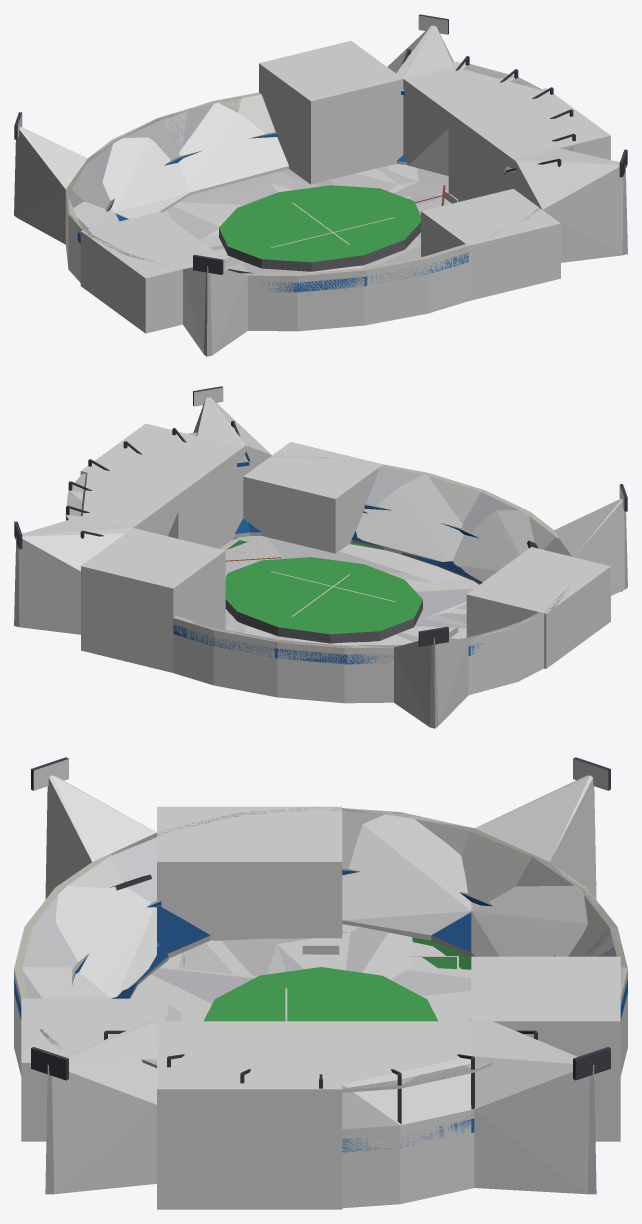
The model's file is lm_anchor_field.glb.
The picture shows the model from 3 angles, top to bottom: view 1: azimuth 30°, elevation 25°; view 2: azimuth 150°, elevation 25°; view 3: azimuth 270°, elevation 25°; orthographic projection. The views are drawn at different scales.
Parts seen in each view (by area): view 1: rubble, chunk_12, chunk_06, chunk_05, chunk_03, intact, chunk_04, damaged, chunk_08, chunk_11, chunk_01, chunk_02 (+5 smaller); view 2: rubble, chunk_12, damaged, chunk_03, chunk_06, chunk_05, chunk_13, intact, chunk_02, chunk_10, chunk_11, chunk_09 (+5 smaller); view 3: chunk_06, rubble, chunk_05, chunk_08, damaged, chunk_13, chunk_04, chunk_12, chunk_07, intact, chunk_01, chunk_03 (+4 smaller).
Boxes of the visible parts, left/top/right/bottom form: rubble: left=162, top=164, right=455, bottom=273; chunk_12: left=259, top=41, right=403, bottom=184; chunk_06: left=448, top=88, right=610, bottom=201; chunk_05: left=80, top=211, right=225, bottom=333; chunk_03: left=421, top=188, right=560, bottom=300; intact: left=158, top=51, right=573, bottom=349; chunk_04: left=513, top=148, right=626, bottom=262; damaged: left=14, top=14, right=627, bottom=282; chunk_08: left=403, top=66, right=538, bottom=175; chunk_11: left=162, top=93, right=288, bottom=194; chunk_01: left=248, top=270, right=364, bottom=331; chunk_02: left=366, top=246, right=468, bottom=324; rubble: left=220, top=536, right=479, bottom=645; chunk_12: left=81, top=528, right=225, bottom=672; damaged: left=14, top=386, right=622, bottom=727; chunk_03: left=243, top=442, right=382, bottom=553; chunk_06: left=80, top=423, right=243, bottom=548; chunk_05: left=466, top=547, right=610, bottom=668; chunk_13: left=14, top=515, right=132, bottom=634; intact: left=66, top=387, right=627, bottom=691; chunk_02: left=356, top=464, right=474, bottom=561; chunk_10: left=277, top=642, right=393, bottom=703; chunk_11: left=173, top=618, right=275, bottom=696; chunk_09: left=394, top=638, right=468, bottom=728; chunk_06: left=157, top=1021, right=342, bottom=1209; rubble: left=130, top=924, right=471, bottom=1021; chunk_05: left=157, top=806, right=342, bottom=940; chunk_08: left=342, top=1021, right=471, bottom=1208; damaged: left=31, top=757, right=627, bottom=1208; chunk_13: left=471, top=1021, right=596, bottom=1194; chunk_04: left=45, top=1021, right=156, bottom=1194; chunk_12: left=471, top=956, right=620, bottom=1141; chunk_07: left=342, top=808, right=471, bottom=940; intact: left=14, top=757, right=627, bottom=1089; chunk_01: left=29, top=863, right=156, bottom=998; chunk_03: left=21, top=998, right=156, bottom=1141.
Size of the model in its own units: 150 by 31 by 120.
